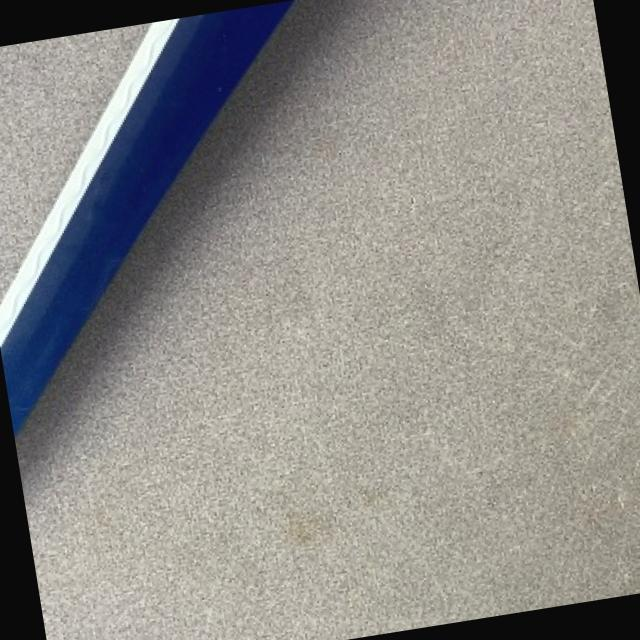healthy: (18, 0, 640, 640)
